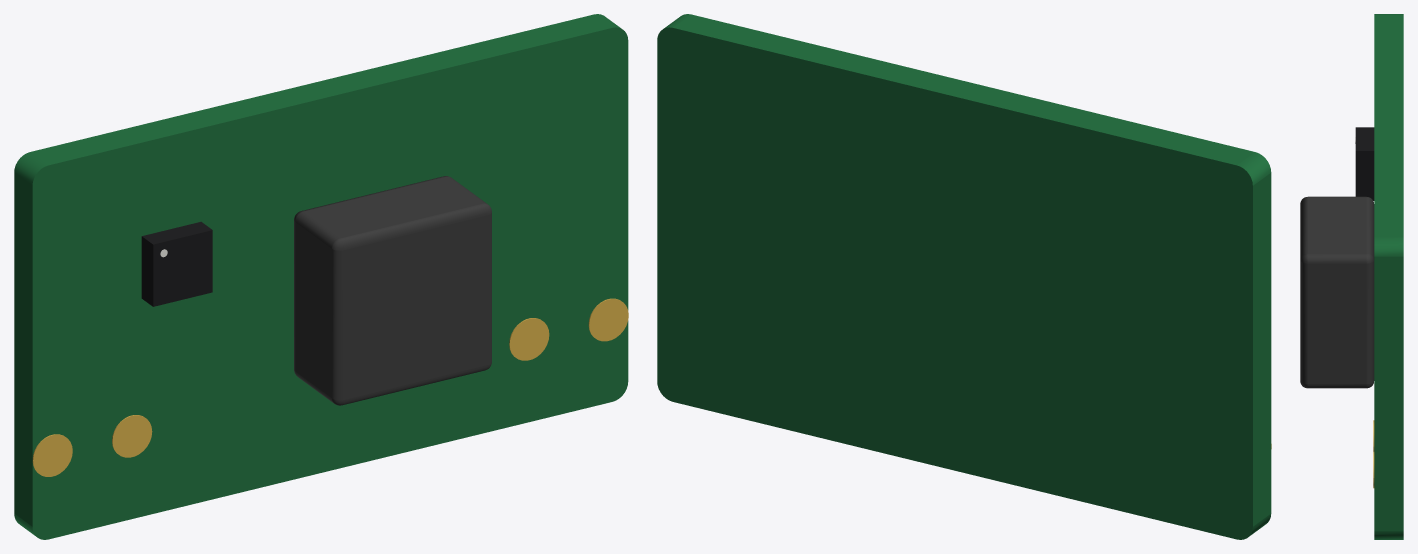
Rendered from buck-5v3a-cp06086-eck.glb.
3 renders of one model, left to right at view 1: azimuth 30°, elevation 25°; view 2: azimuth 150°, elevation 25°; view 3: azimuth 270°, elevation 25°, orthographic. The views are drawn at different scales.
Visible parts, largest first — view 1: board, inductor_1, chip_2, pads_4_2, pads_4_1, pads_3_1, pads_3_2; view 2: board; view 3: board, inductor_1, chip_2.
Boxes of the visible parts, left/top/right/bottom form: board: left=14, top=14, right=628, bottom=539; inductor_1: left=294, top=176, right=491, bottom=405; chip_2: left=141, top=221, right=212, bottom=306; pads_4_2: left=588, top=298, right=628, bottom=341; pads_4_1: left=509, top=318, right=549, bottom=360; pads_3_1: left=32, top=434, right=72, bottom=476; pads_3_2: left=112, top=415, right=152, bottom=457; board: left=657, top=14, right=1271, bottom=539; board: left=1374, top=14, right=1403, bottom=539; inductor_1: left=1300, top=196, right=1374, bottom=388; chip_2: left=1355, top=127, right=1374, bottom=200.
Size of the model in its own units: 30 by 18 by 5.6.
